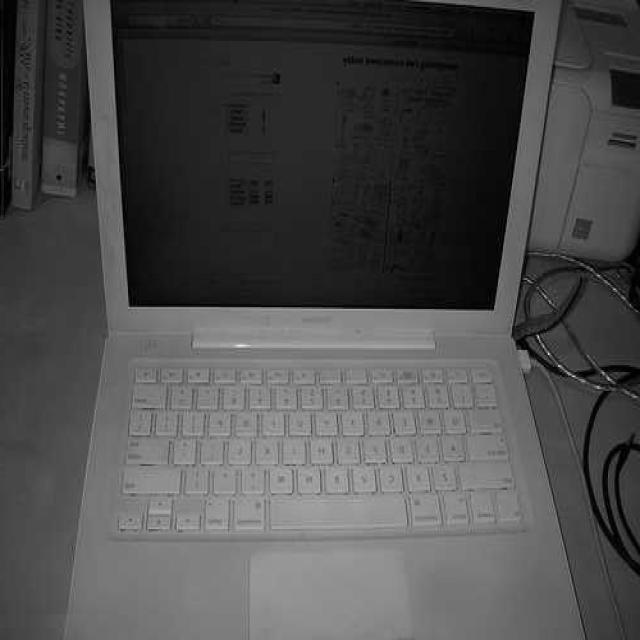laptop: (44, 18, 628, 598)
